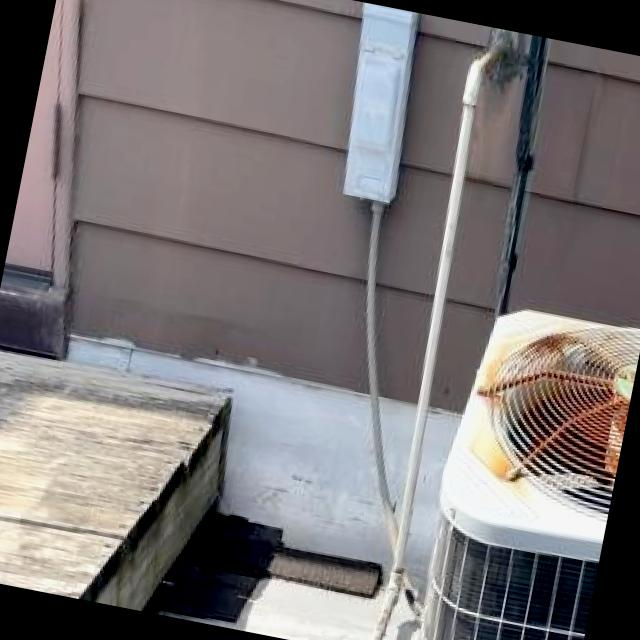SPLIT-SYSTEM: (402, 285, 640, 640)
